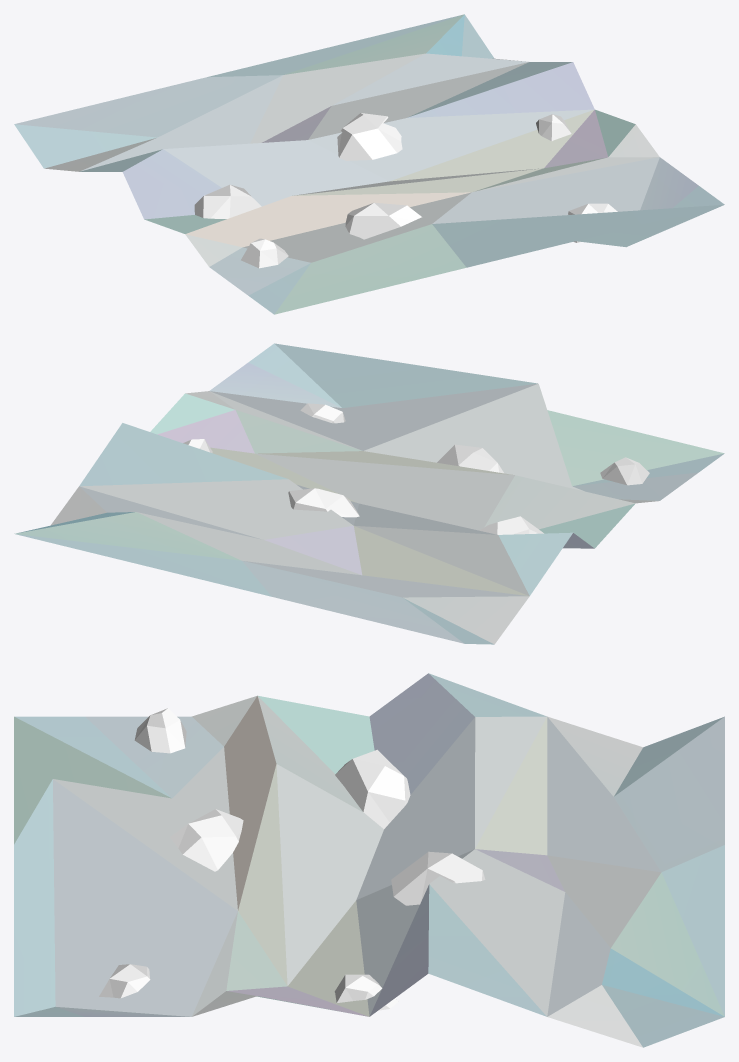
The model's file is sm_ground_ice_7.fbx.
3 renders of one model, top to bottom at view 1: azimuth 30°, elevation 25°; view 2: azimuth 150°, elevation 25°; view 3: azimuth 270°, elevation 25°, orthographic. The views are drawn at different scales.
Parts seen in each view (by area): view 1: sm_ground_ice_7; view 2: sm_ground_ice_7; view 3: sm_ground_ice_7.
Part boxes in pixels (box(x1,y1,x2,y2)): sm_ground_ice_7: box(14, 14, 724, 314); sm_ground_ice_7: box(14, 343, 724, 644); sm_ground_ice_7: box(14, 673, 724, 1047).
Size of the model in its own units: 32.26 by 200 by 200.
